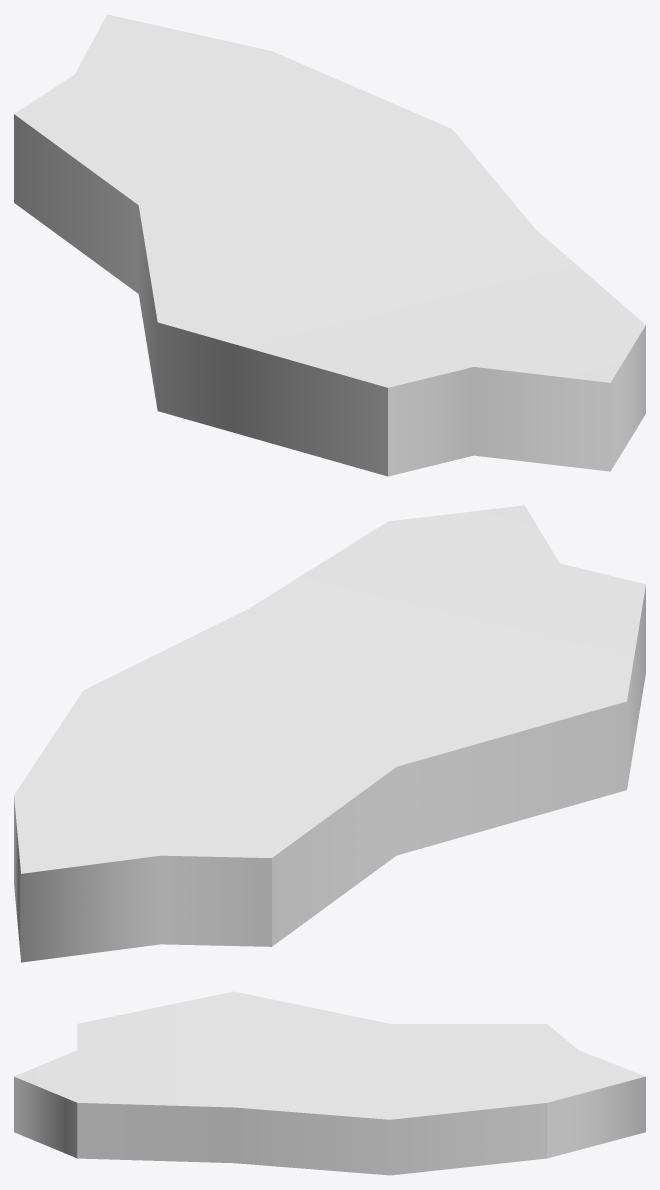
The model's file is Rock 34.FBX.
3 renders of one model, top to bottom at view 1: azimuth 30°, elevation 25°; view 2: azimuth 150°, elevation 25°; view 3: azimuth 270°, elevation 25°, orthographic. The views are drawn at different scales.
Parts seen in each view (by area): view 1: Box001; view 2: Box001; view 3: Box001.
Boxes of the visible parts, box(x1,y1,x2,y2) form: Box001: box(14, 14, 645, 476); Box001: box(14, 505, 645, 962); Box001: box(14, 991, 645, 1175).
Bounding box in the file's own units: 24.02 × 4.86 × 50.01.
